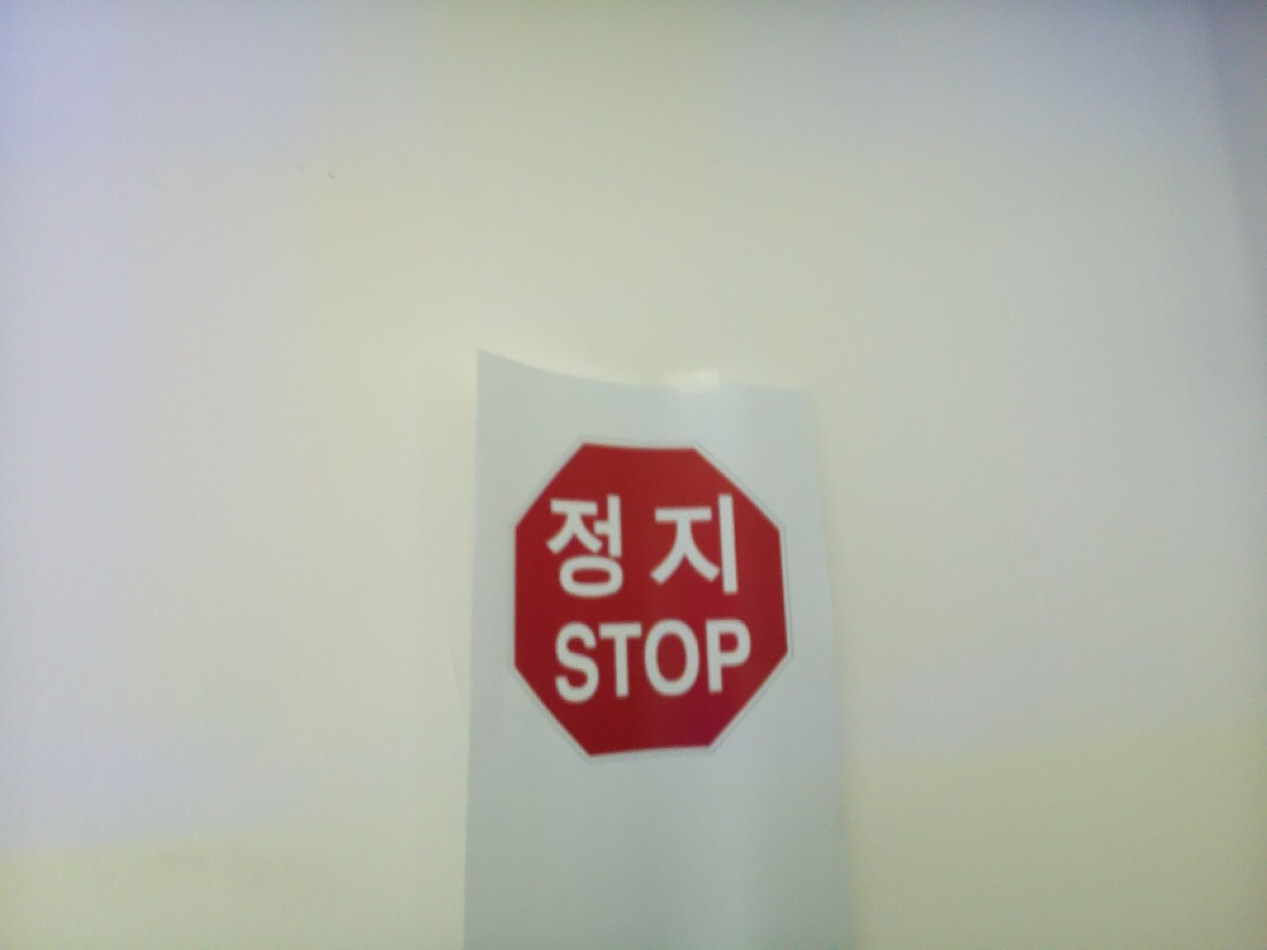stop: (505, 433, 797, 766)
